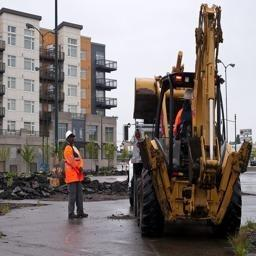boots: (68, 212, 89, 222)
hat: (64, 130, 75, 141)
no vest: (61, 146, 84, 181)
